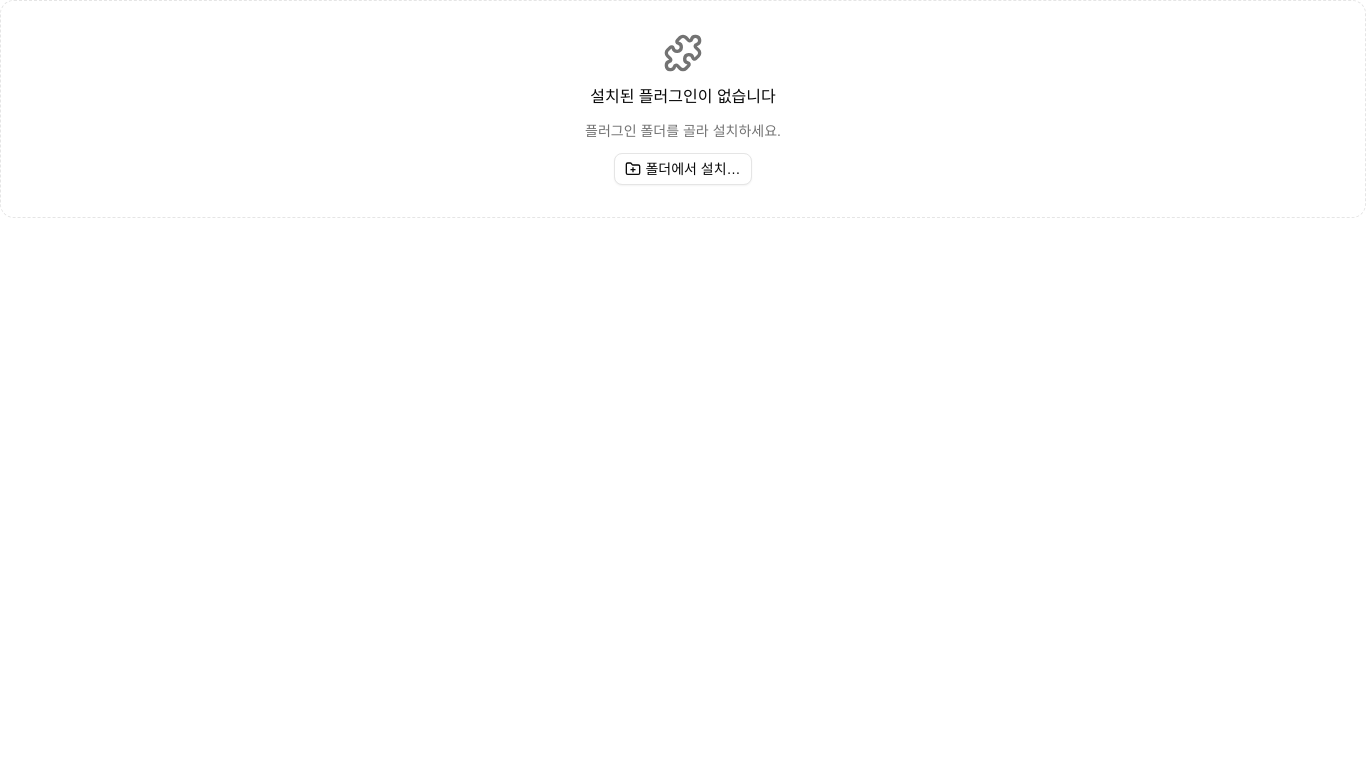
settings > plugins › T-ui-plugin-05 [Validation] a folder that fails inspection shows an inline alert, with no install button
Click the button "폴더에서 설치…".
click(683, 169)  # box [614, 153, 752, 185]
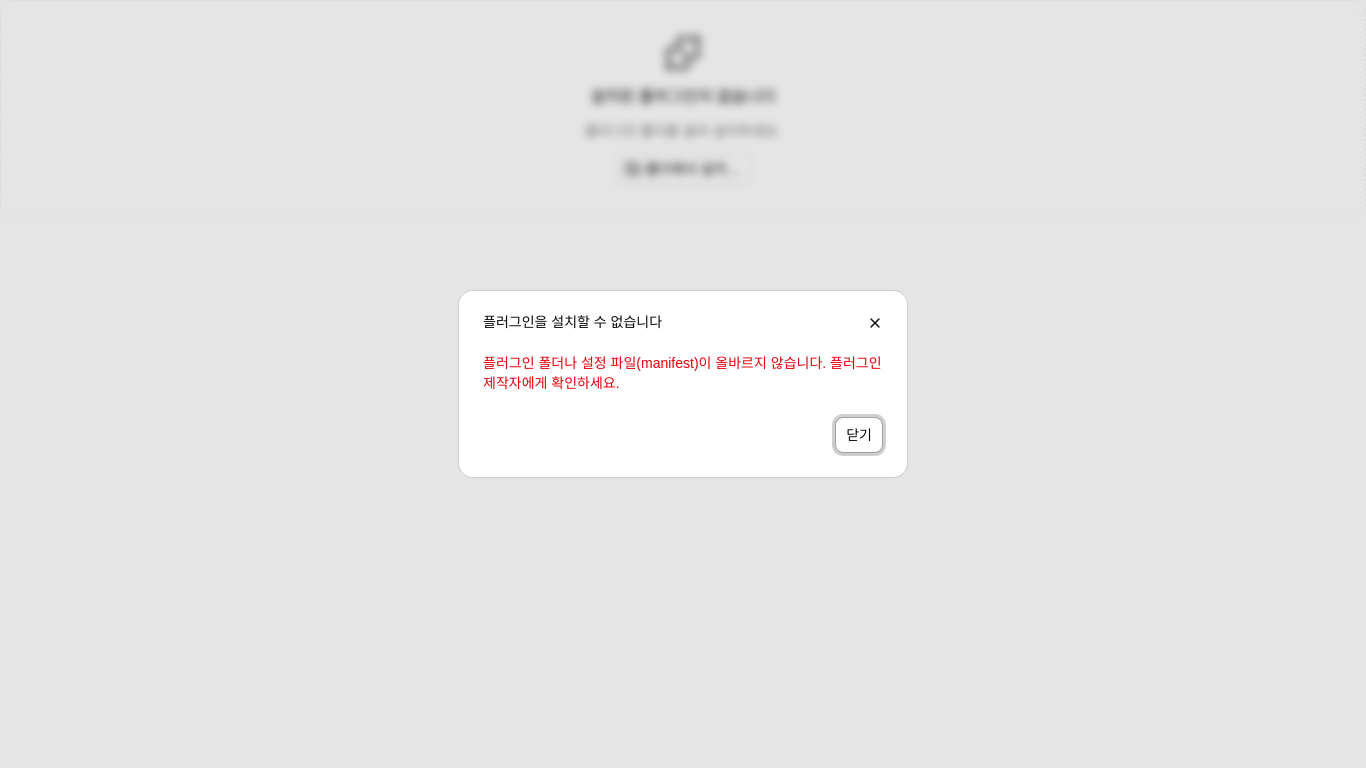
Now the message shows "플러그인 폴더나 설정 파일(manifest)이 올바르지 않습니다", box [483, 355, 882, 391]
